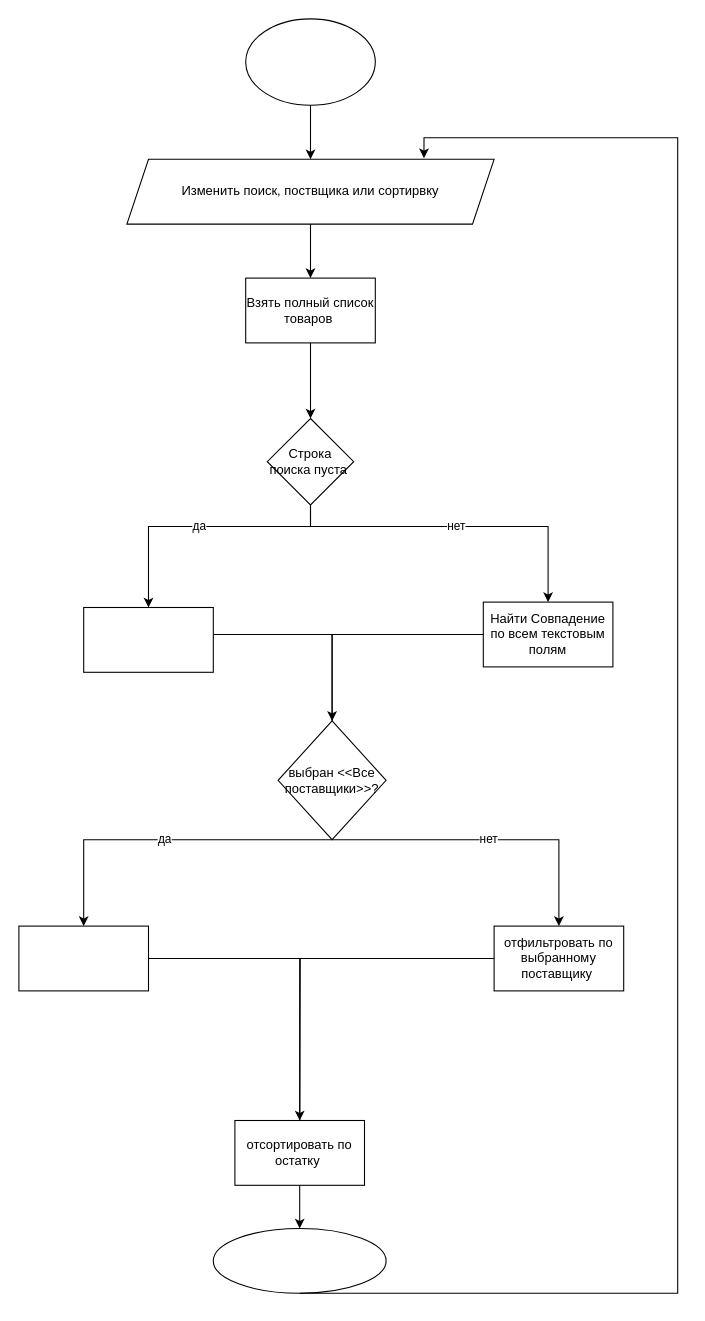
Image size: 705x1321. Some labels were removed from this diagram. The shapes that lost their labels are listed below. From the top down, each one's centre as x and y in pixels, then its label:
[310,61]: каталог октрыт
[148,639]: Оставить все товары
[83,958]: не применять фильтр поствщика
[299,1260]: сразу обновить список
